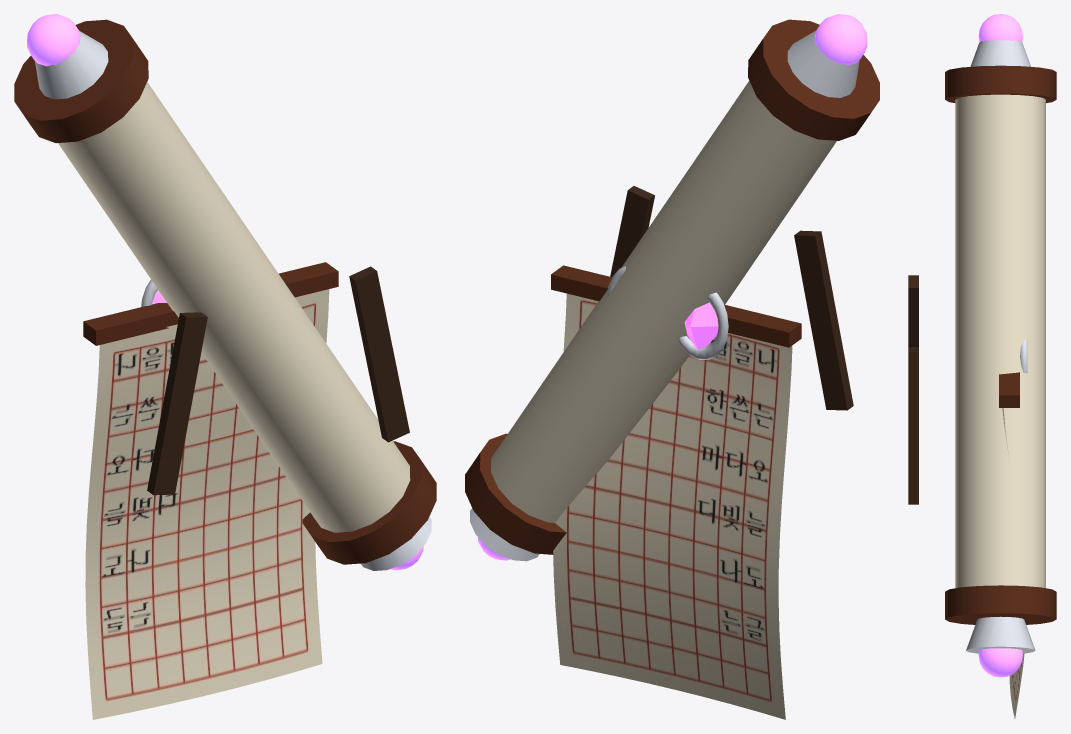
Rendered from back_eqko2.glb.
3 views of the same model, side by side, from view 1: azimuth 30°, elevation 25°; view 2: azimuth 150°, elevation 25°; view 3: azimuth 270°, elevation 25° (orthographic). The views are drawn at different scales.
Bounding box in the file's own units: 2.2 × 3.75 × 0.85.
Materials: 8 (1 with a texture image).
